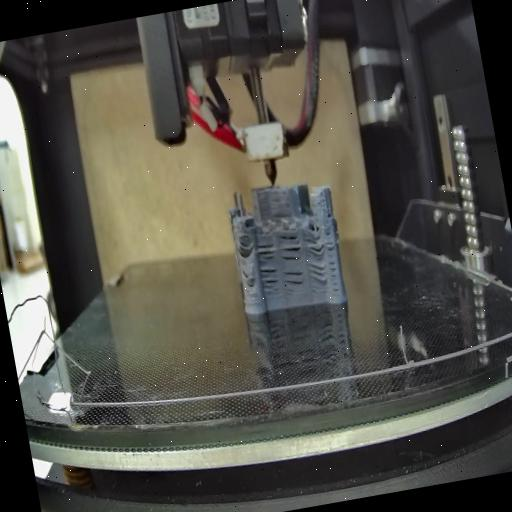cracks: (324, 240, 342, 294), (282, 264, 308, 298), (276, 231, 303, 263), (258, 265, 282, 298), (306, 260, 330, 290), (254, 240, 276, 264), (304, 236, 324, 255), (240, 269, 255, 290), (236, 238, 252, 256), (322, 206, 332, 220)
